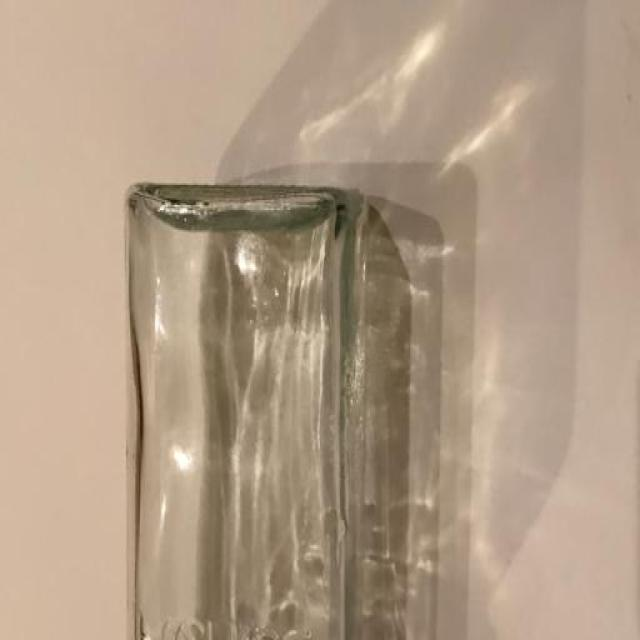glass: (110, 122, 472, 640)
